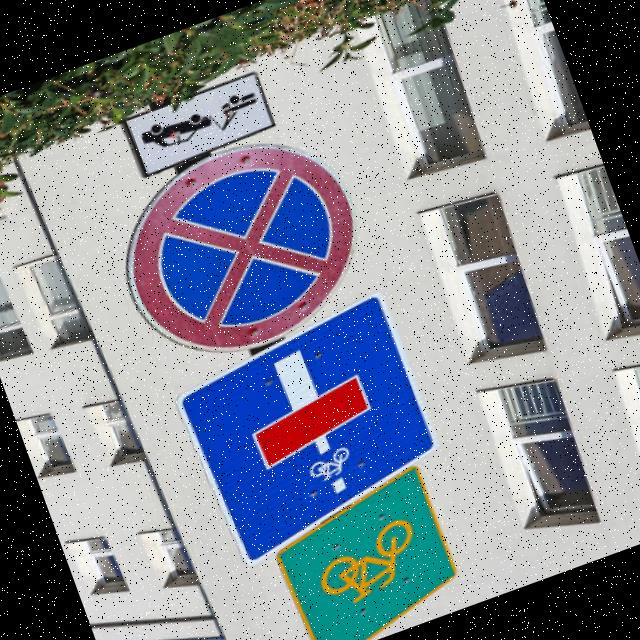no_parking: (89, 114, 398, 376)
